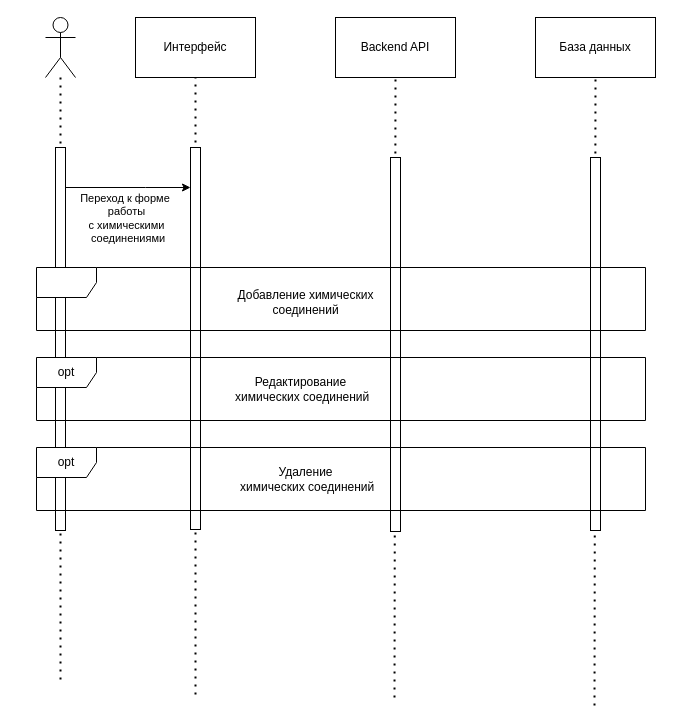
Image size: 673x725. Some labels were removed from this diagram. The shapes that lost their labels are listed below. From the top down, each one's box as (x1, y1, x2, y2) in pixels, then its label:
(44, 16, 76, 78): Администратор
(36, 266, 646, 330): ref
